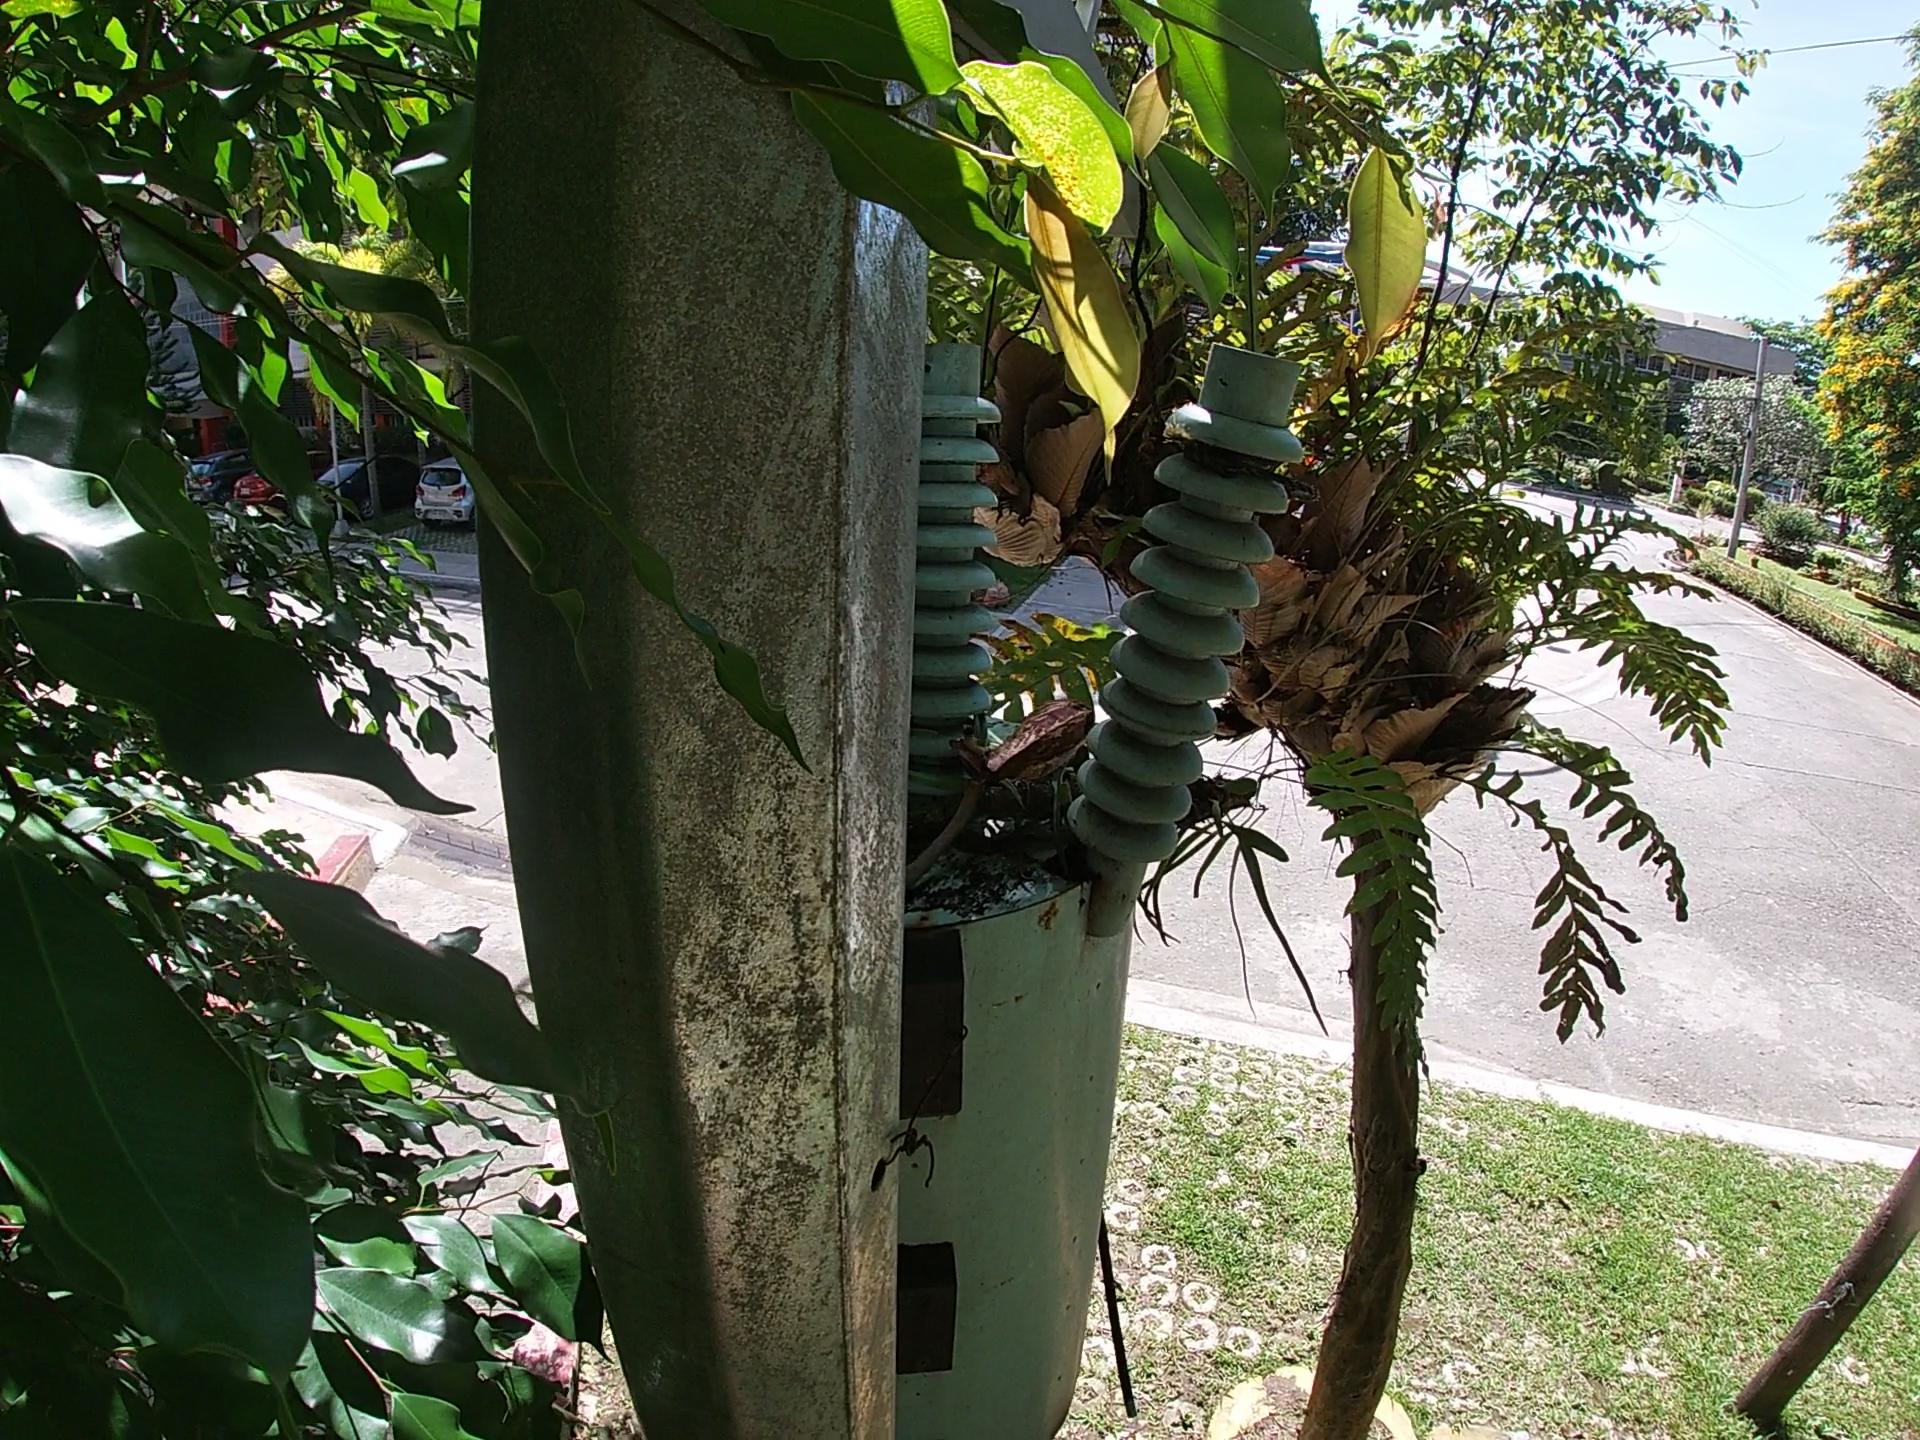branch with leaves: (943, 693, 1339, 877)
mahogany fruit: (912, 706, 1070, 793)
tree branch: (901, 765, 1014, 962)
